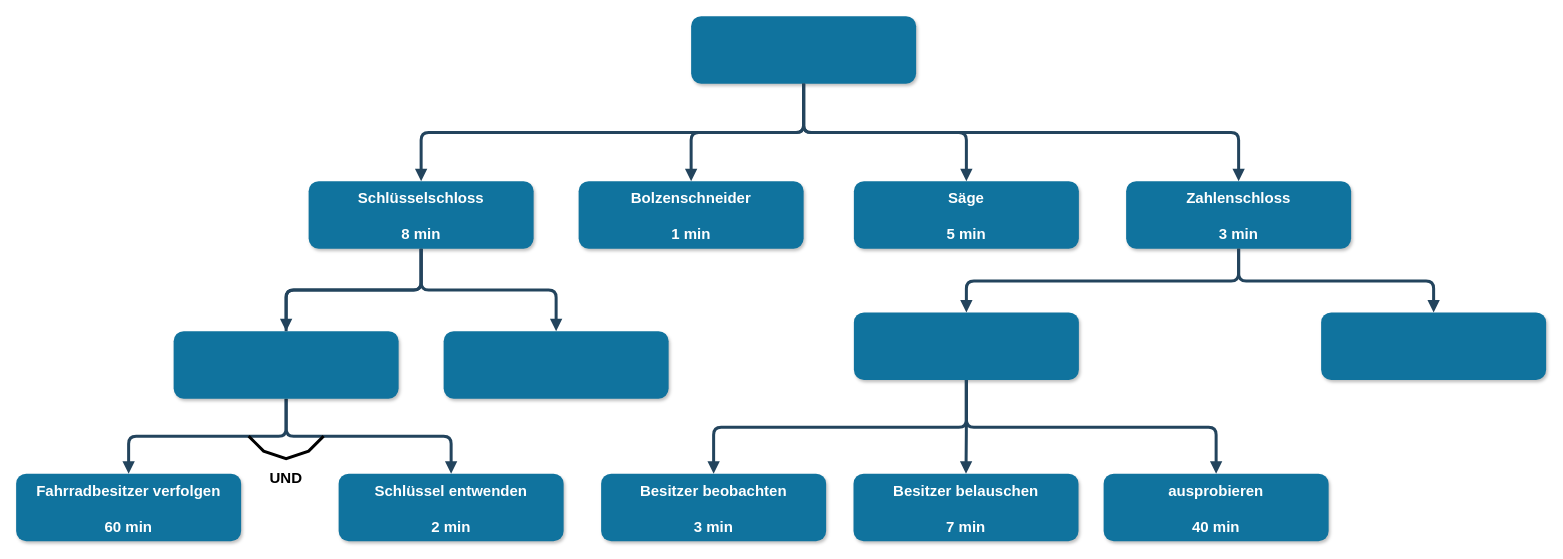
Some shapes in this 1563 by 559 pixel diagram are drawn without their labels. Here are the shapes that lost their labels. From the top down, the centre of each, then its label:
point 804,50: Fahrradschloss knacken 1 min
point 286,366: Schlüssel beschaffen 62 min
point 556,366: Dietrich verwenden 8 min
point 966,347: Code lösen 3 min
point 1434,347: Schloss mit Gewalt aufhebeln 5 min
